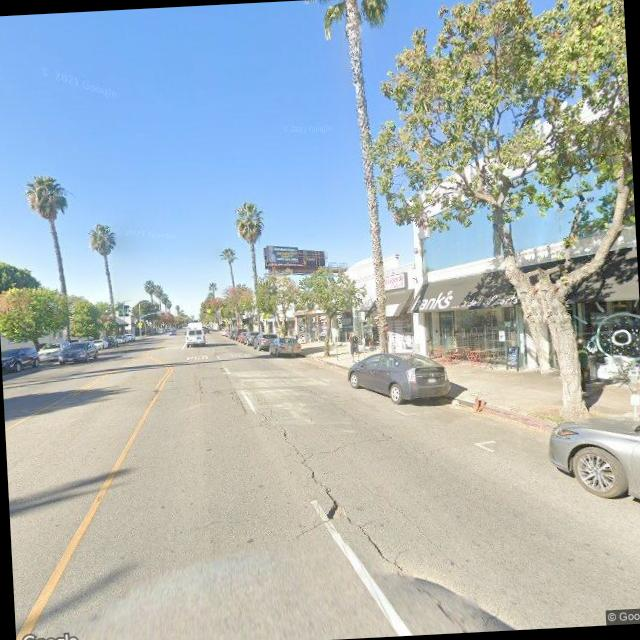crack: (232, 378, 410, 568)
pothole: (317, 489, 354, 524)
